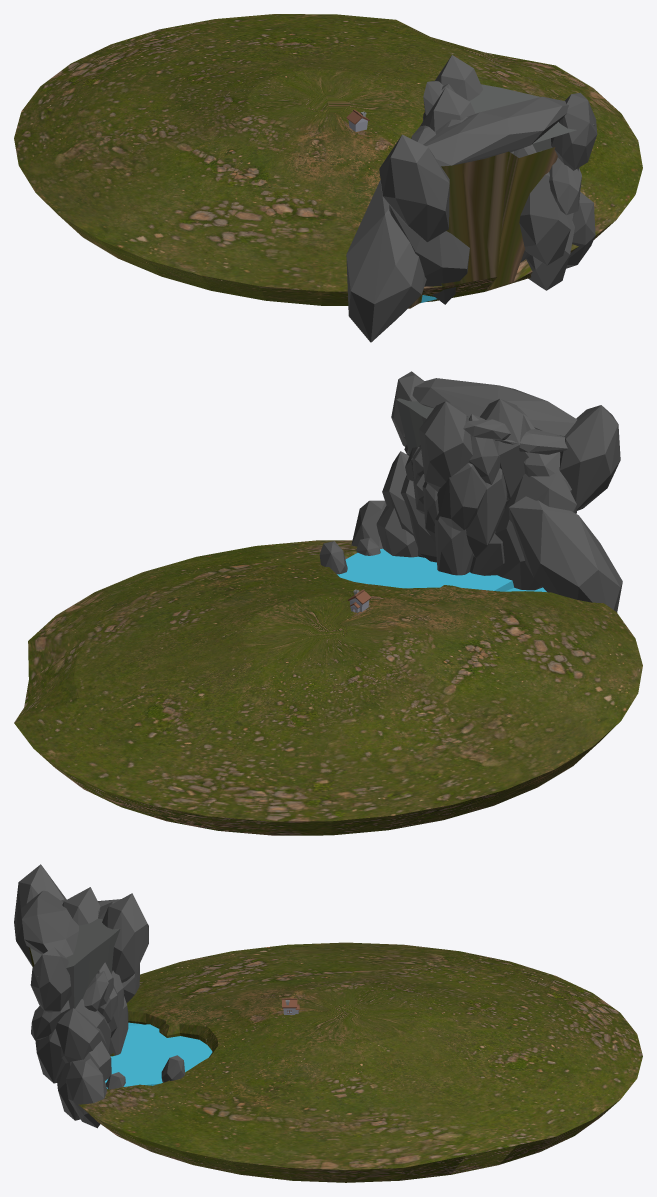
Rendered from castle_on_hills.glb.
3 views of the same model, one above another, from view 1: azimuth 30°, elevation 25°; view 2: azimuth 150°, elevation 25°; view 3: azimuth 270°, elevation 25° (orthographic). The views are drawn at different scales.
Parts seen in each view (by area): view 1: Sphere.002; view 2: Sphere.002, Plane, Object_2.010, Object_2.017; view 3: Sphere.002, Plane, Object_2.010.
Boxes of the visible parts, box(x1,y1,x2,y2) form: Sphere.002: box(14, 14, 642, 342); Sphere.002: box(14, 371, 642, 835); Plane: box(337, 548, 514, 591); Object_2.010: box(382, 451, 424, 557); Object_2.017: box(470, 531, 504, 575); Sphere.002: box(14, 864, 642, 1182); Plane: box(105, 1024, 212, 1088); Object_2.010: box(55, 1008, 106, 1063).
Bounding box in the file's own units: 6 × 2.45 × 7.01.
38 materials, 1 textured.
